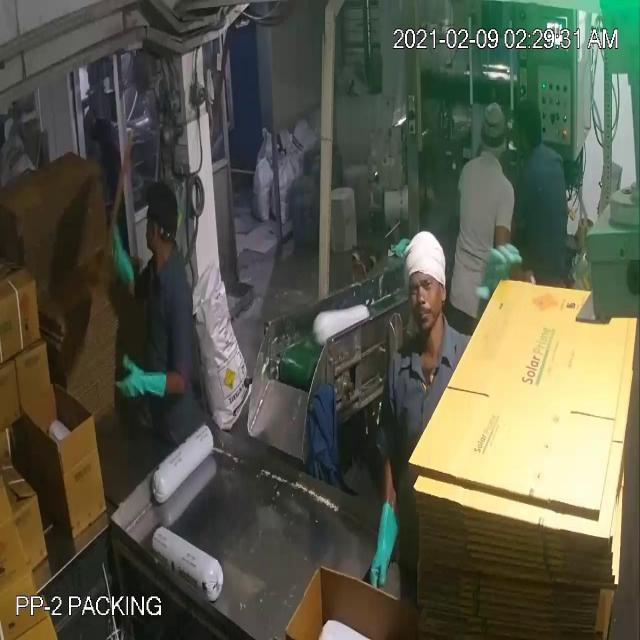Gloves: (36, 70, 501, 546)
